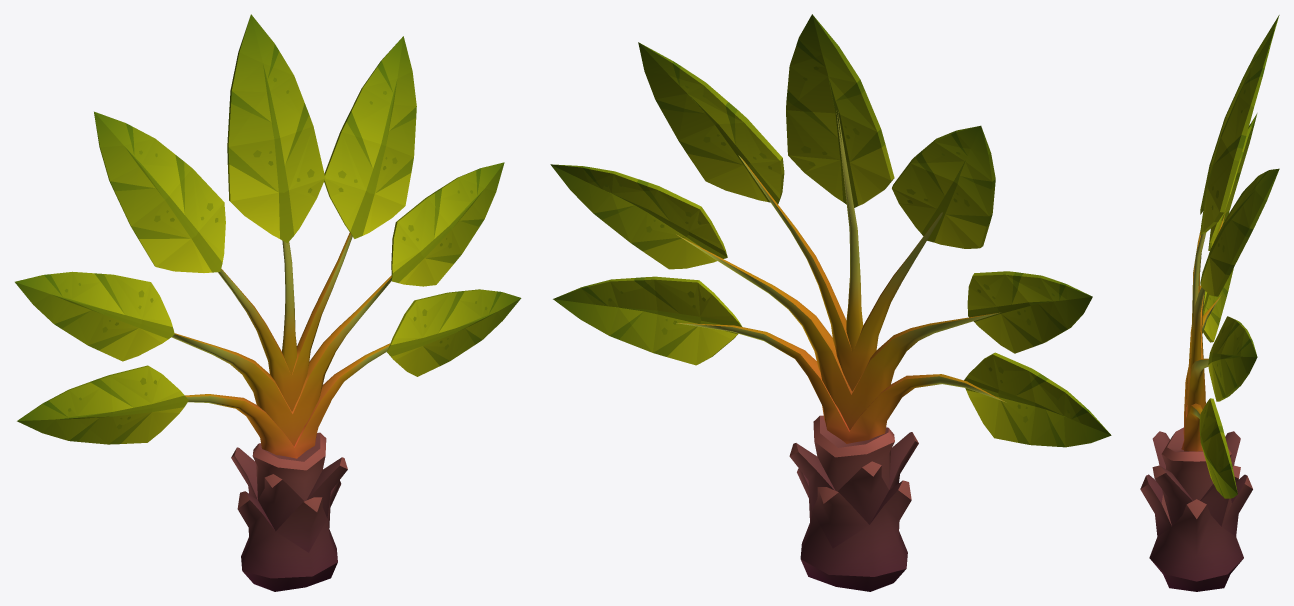
Rendered from banana2.glb.
3 renders of one model, left to right at view 1: azimuth 30°, elevation 25°; view 2: azimuth 150°, elevation 25°; view 3: azimuth 270°, elevation 25°, orthographic. The views are drawn at different scales.
Visible parts, largest first — view 1: banana2; view 2: banana2; view 3: banana2.
Boxes of the visible parts, <box> form: banana2: <box>15,14,521,591</box>; banana2: <box>550,14,1111,591</box>; banana2: <box>1140,15,1279,591</box>.
Bounding box in the file's own units: 5.16 × 5.21 × 1.21.
1 material, 1 textured.
